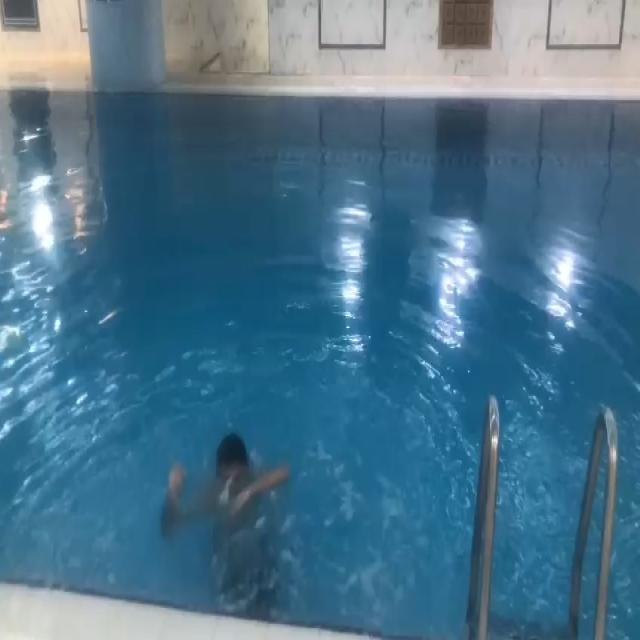Drowning: (161, 434, 290, 546)
